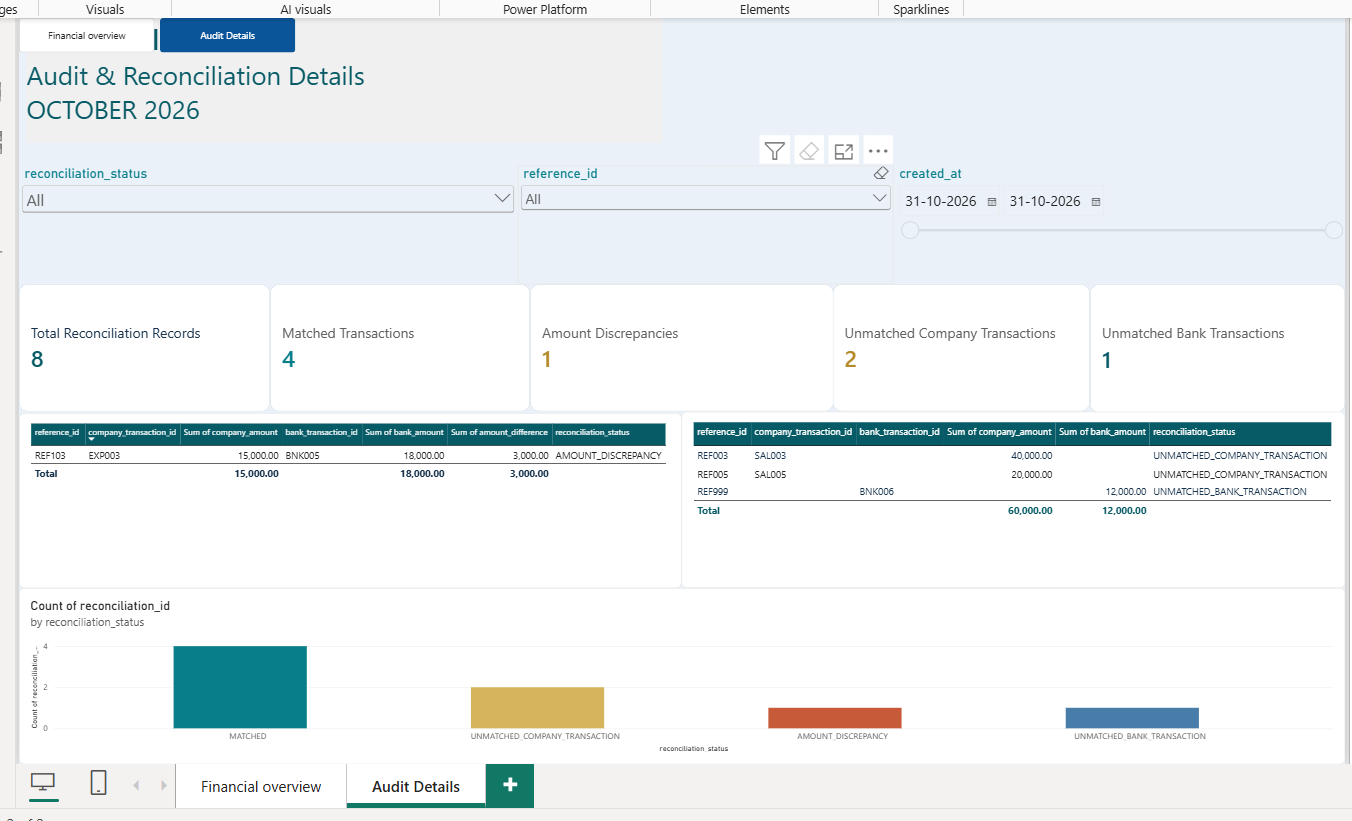

This screenshot's page, from the dashboard's own definition file:
{"tool":"powerbi","page":{"name":"Audit Details","canvas":[1920,1080],"ordinal":1},"visuals":[{"type":"textbox","box":[10.9,0,921.1,181],"z":0},{"type":"cardVisual","fields":{"Data":["public bank_transactions.Total Reconciliation Records"]},"box":[0,385.5,363.7,184.6],"z":1000},{"type":"cardVisual","fields":{"Data":["public bank_transactions.Matched Transactions"]},"box":[363.7,385.5,376.4,184.6],"z":2000},{"type":"cardVisual","fields":{"Data":["public bank_transactions.Amount Discrepancies"]},"box":[740.2,385.5,439.7,184.6],"z":3000},{"type":"cardVisual","fields":{"Data":["public bank_transactions.Unmatched Company Transactions"]},"box":[1178.1,385.5,372.8,184.6],"z":4000},{"type":"cardVisual","fields":{"Data":["public bank_transactions.Unmatched Bank Transactions"]},"box":[1550.9,385.5,369.2,186.4],"z":5000},{"type":"clusteredColumnChart","fields":{"Category":["public reconciliation_results.reconciliation_status"],"Y":["CountNonNull(public reconciliation_results.reconciliation_id)"]},"box":[0,825.2,1920.1,255.2],"z":6000},{"type":"tableEx","fields":{"Values":["public reconciliation_results.reference_id","public reconciliation_results.company_transaction_id","Sum(public reconciliation_results.company_amount)","public reconciliation_results.bank_transaction_id","Sum(public reconciliation_results.bank_amount)","Sum(public reconciliation_results.amount_difference)","public reconciliation_results.reconciliation_status"]},"box":[0,571.9,959.1,253.4],"z":7000},{"type":"tableEx","fields":{"Values":["public reconciliation_results.reference_id","public reconciliation_results.company_transaction_id","public reconciliation_results.bank_transaction_id","Sum(public reconciliation_results.company_amount)","Sum(public reconciliation_results.bank_amount)","public reconciliation_results.reconciliation_status"]},"box":[959.1,570,960.9,255.2],"z":8000},{"type":"slicer","fields":{"Values":["public reconciliation_results.reconciliation_status"]},"box":[0,213.5,722.1,171.9],"z":9000},{"type":"slicer","fields":{"Values":["public reconciliation_results.reference_id"]},"box":[722.1,213.5,544.7,171.9],"z":10000},{"type":"slicer","fields":{"Values":["public bank_transactions.created_at"]},"box":[1266.8,213.5,653.3,171.9],"z":11000},{"type":"pageNavigator","box":[0,0,400,50],"z":11001}]}

Visuals, with their boxes on the page's 1920x1080 design canvas (x1, y1, x2, y2). These are canvas units, not pixel positions in the 1352x821 screenshot, which may show the page scaled, cropped or inside an application window:
textbox: 11:0:932:181
cardVisual - public bank_transactions.Total Reconciliation Records: 0:386:364:570
cardVisual - public bank_transactions.Matched Transactions: 364:386:740:570
cardVisual - public bank_transactions.Amount Discrepancies: 740:386:1180:570
cardVisual - public bank_transactions.Unmatched Company Transactions: 1178:386:1551:570
cardVisual - public bank_transactions.Unmatched Bank Transactions: 1551:386:1920:572
clusteredColumnChart - public reconciliation_results.reconciliation_status x CountNonNull(public reconciliation_results.reconciliation_id): 0:825:1920:1080
tableEx - public reconciliation_results.reference_id x public reconciliation_results.company_transaction_id: 0:572:959:825
tableEx - public reconciliation_results.reference_id x public reconciliation_results.company_transaction_id: 959:570:1920:825
slicer - public reconciliation_results.reconciliation_status: 0:214:722:385
slicer - public reconciliation_results.reference_id: 722:214:1267:385
slicer - public bank_transactions.created_at: 1267:214:1920:385
pageNavigator: 0:0:400:50
